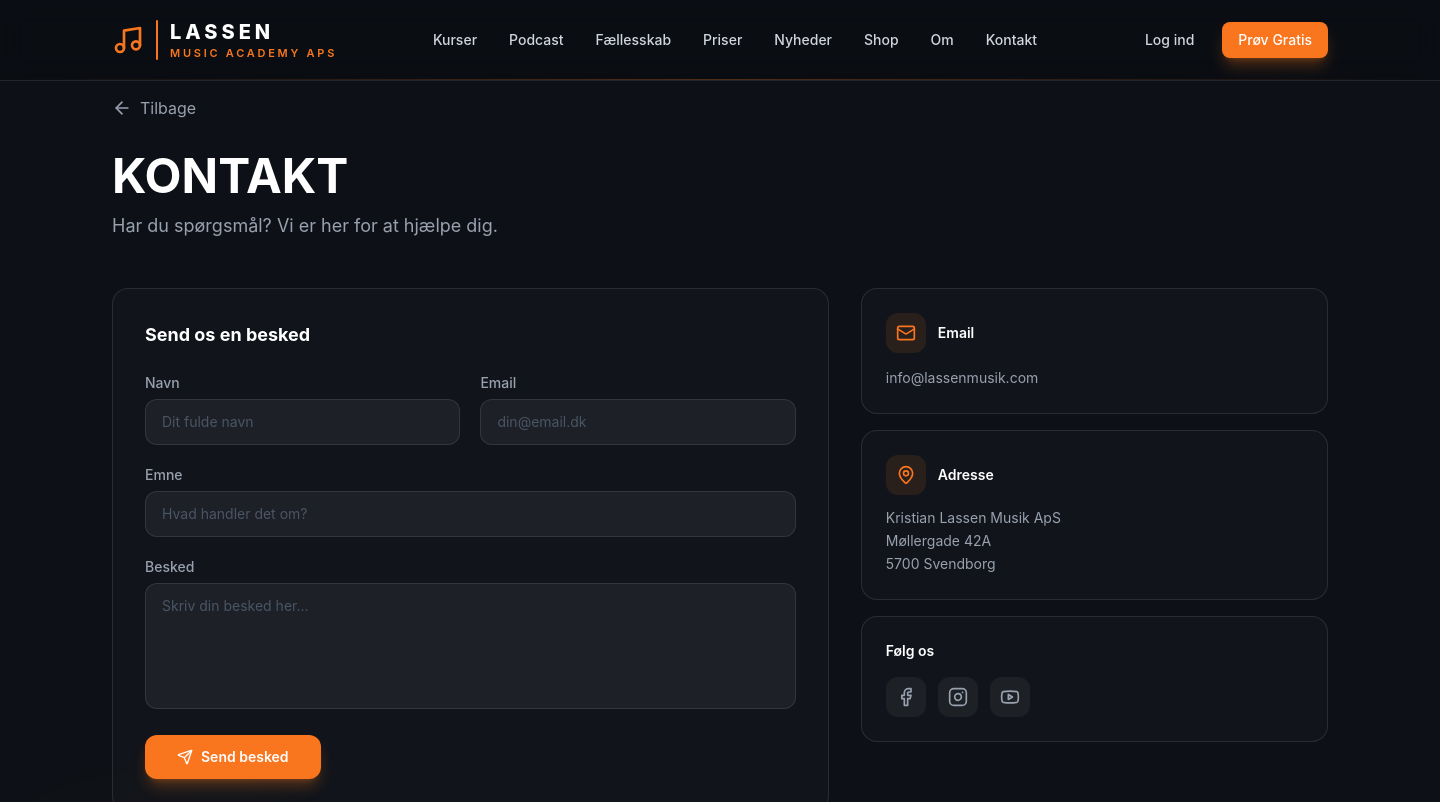
Scenario: Contact form › POSTs to the send-contact-message function and shows success
Step 1. Type "Anna Test" into the field with placeholder "Dit fulde navn" → (303, 422), box [145,399,460,445]
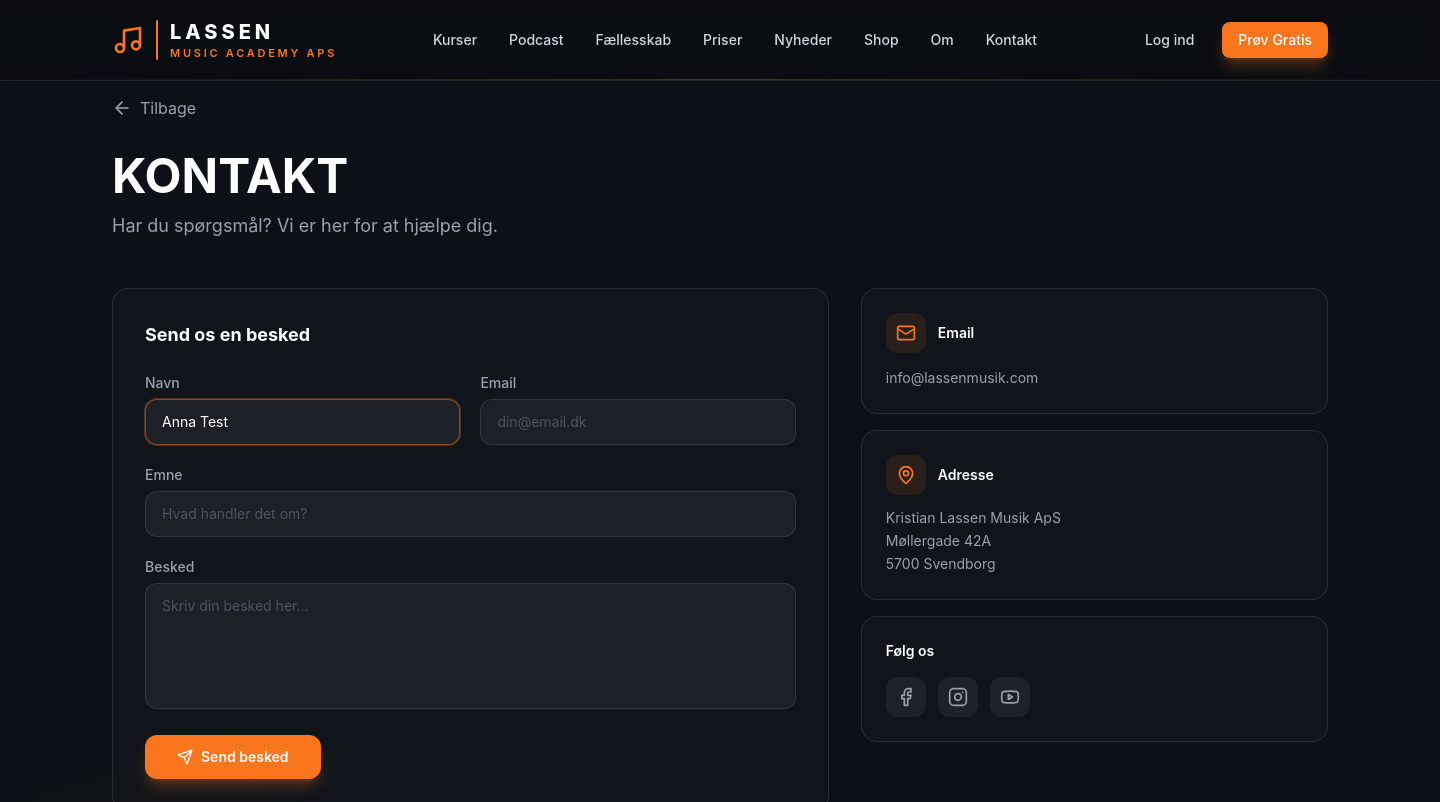
Step 2. Type "anna@example.com" into the field with placeholder "din@email.dk" → (638, 422), box [480,399,796,445]
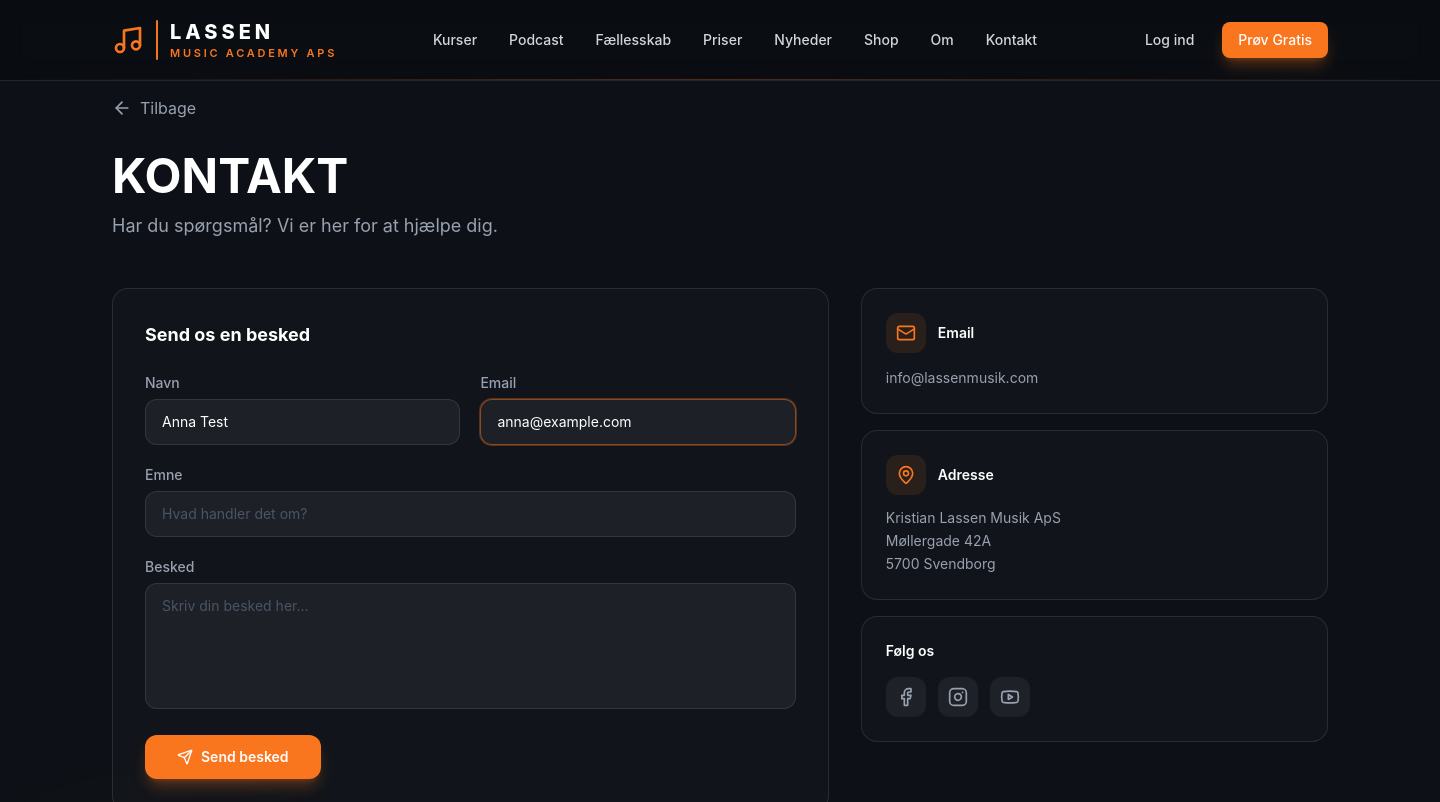
Step 3. Type "Spørgsmål" into the field with placeholder "Hvad handler det om?" → (470, 514), box [145,491,796,537]
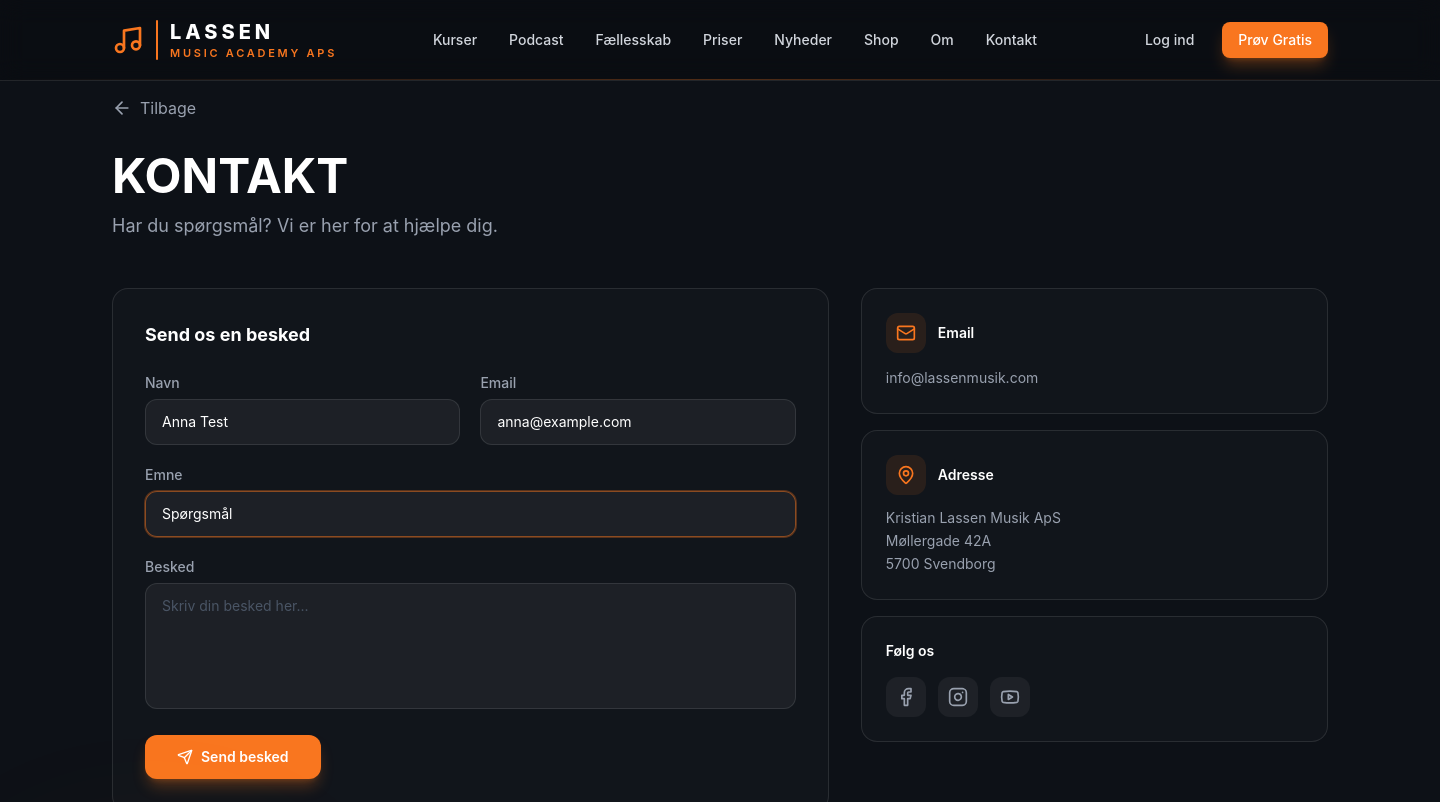
Step 4. Type "Hej, jeg har et spørgsmål." into the text box with placeholder "Skriv din besked her..." → (470, 646), box [145,583,796,709]
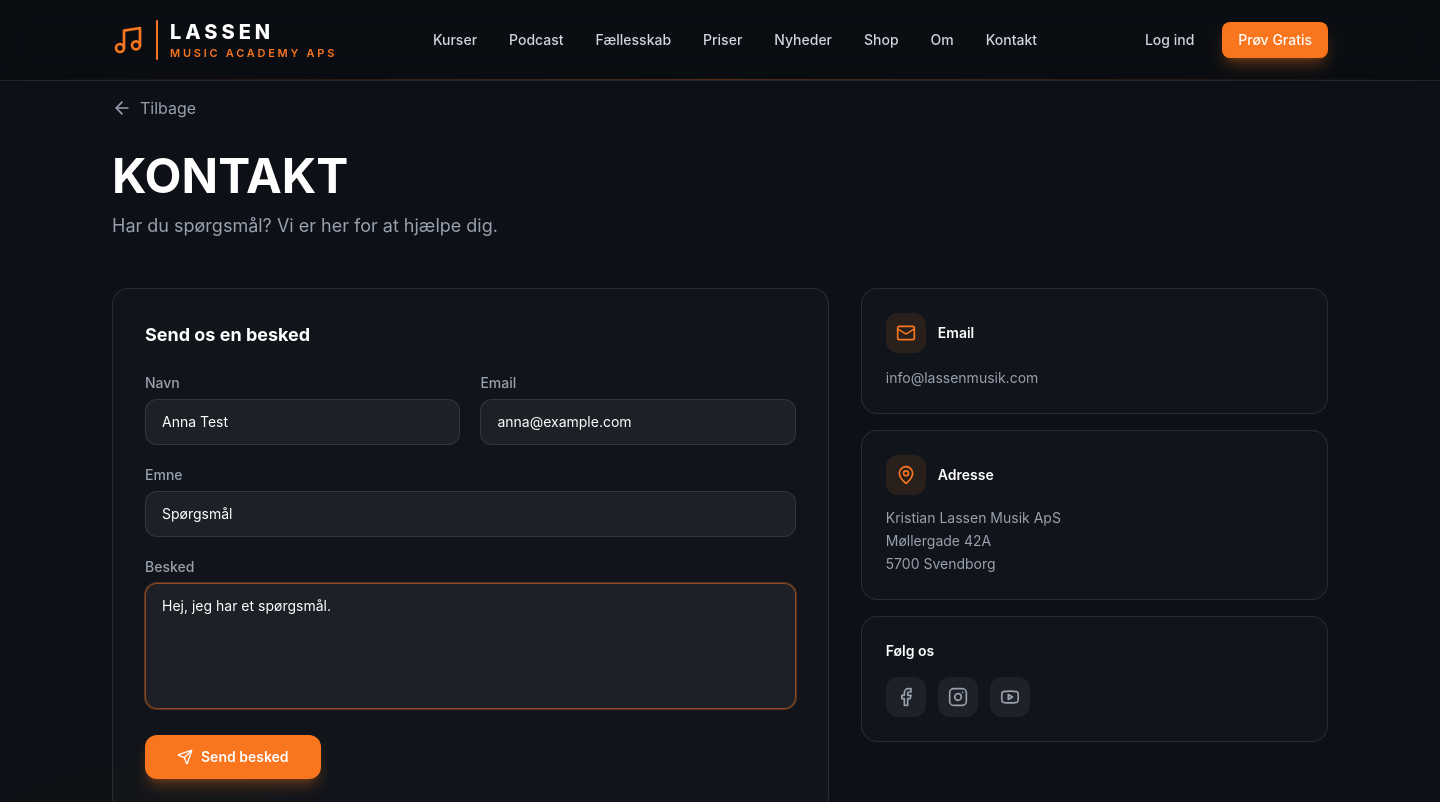
Step 5. Click the button "Send besked" → (233, 757), box [145,735,321,779]
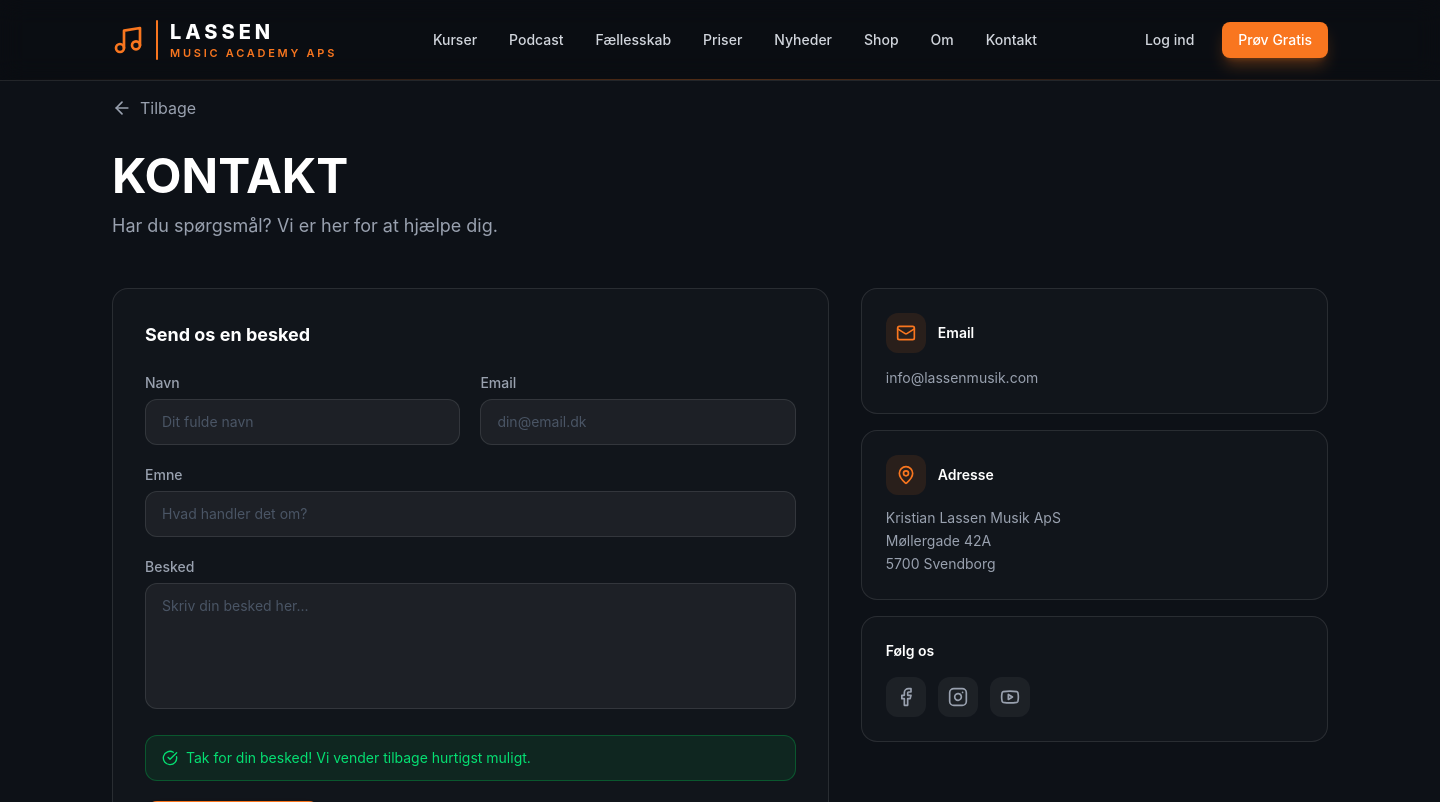
Result: the text "Tak for din besked! Vi vender tilbage hurtigst muligt." is shown at [186,748,531,768]
Result: the field with placeholder "Dit fulde navn" is empty at [145,399,460,445]
